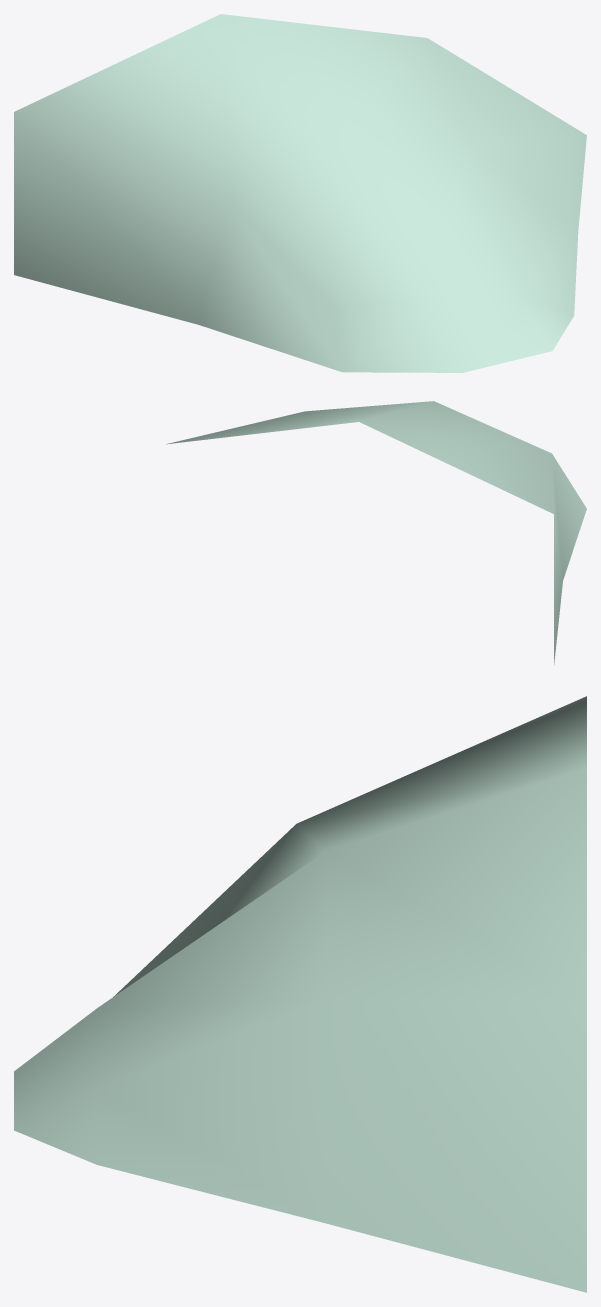
The model's file is snow-end.glb.
The picture shows the model from 3 angles, top to bottom: view 1: azimuth 30°, elevation 25°; view 2: azimuth 150°, elevation 25°; view 3: azimuth 270°, elevation 25°; orthographic projection. The views are drawn at different scales.
Visible parts, largest first — view 1: SnowEnd; view 2: SnowEnd; view 3: SnowEnd.
Boxes of the visible parts, left/top/right/bottom form: SnowEnd: left=14, top=14, right=586, bottom=372; SnowEnd: left=166, top=401, right=586, bottom=664; SnowEnd: left=14, top=696, right=586, bottom=1292.
Size of the model in its own units: 92.37 by 32.44 by 59.35.
1 material, 1 textured.
